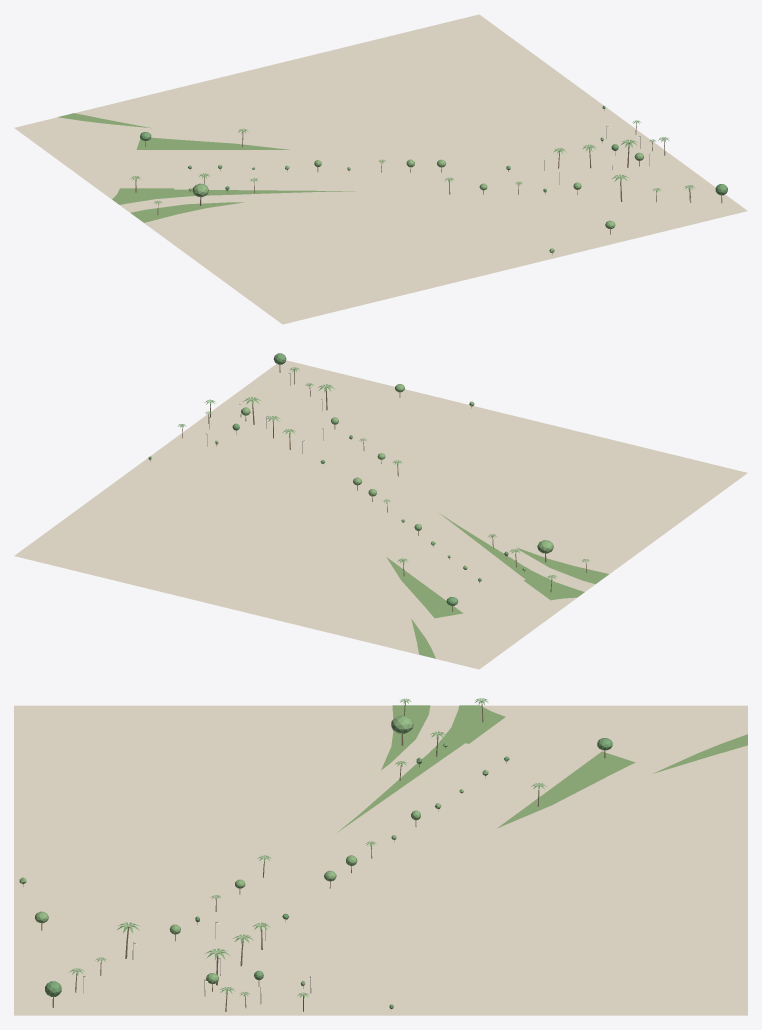
Rendered from nature_-2_-2.glb.
3 renders of one model, top to bottom at view 1: azimuth 30°, elevation 25°; view 2: azimuth 150°, elevation 25°; view 3: azimuth 270°, elevation 25°, orthographic. The views are drawn at different scales.
Visible parts, largest first — view 1: ground, grass, foliage_b, palm_leaf; view 2: ground, grass, foliage_b, palm_leaf; view 3: ground, grass, foliage_b, palm_leaf, trunk, foliage_a.
Boxes of the visible parts, bbox=[...] form: ground: bbox=[14, 14, 747, 324]; grass: bbox=[57, 113, 354, 222]; foliage_b: bbox=[188, 137, 643, 252]; palm_leaf: bbox=[130, 120, 694, 204]; ground: bbox=[14, 360, 747, 669]; grass: bbox=[386, 513, 608, 658]; foliage_b: bbox=[215, 384, 553, 570]; palm_leaf: bbox=[178, 367, 589, 579]; ground: bbox=[14, 705, 747, 1015]; grass: bbox=[337, 705, 747, 832]; foliage_b: bbox=[19, 715, 488, 986]; palm_leaf: bbox=[69, 698, 546, 998]; trunk: bbox=[23, 701, 605, 1011]; foliage_a: bbox=[45, 738, 612, 1008].
Bounding box in the file's own units: 250 × 13.07 × 250.
